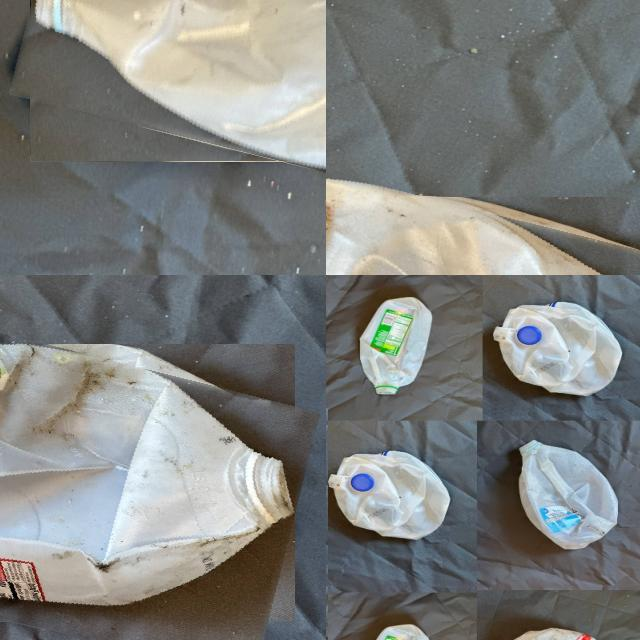milk-jug: (0, 313, 307, 640), (19, 0, 326, 191), (326, 166, 640, 275), (494, 304, 622, 398), (332, 442, 447, 546), (523, 442, 608, 550), (355, 296, 437, 398)
